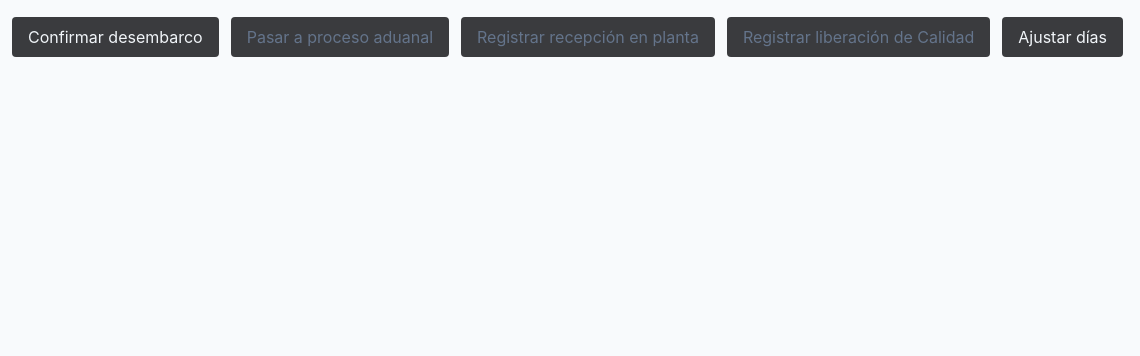
Scenario: cada acción › confirmar desembarco: la fecha va en hora de Costa Rica
Click the button "Confirmar desembarco" at x=115, y=37, box [12,17,219,57]
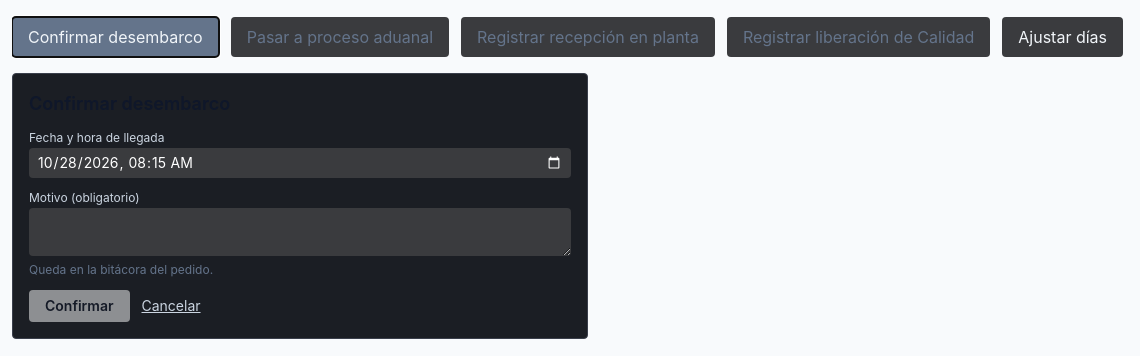
Type "Confirmado con el agente aduanal" into the text box labelled "Motivo (obligatorio) Queda en la bitácora del pedido." at x=300, y=232, box [29,208,571,256]
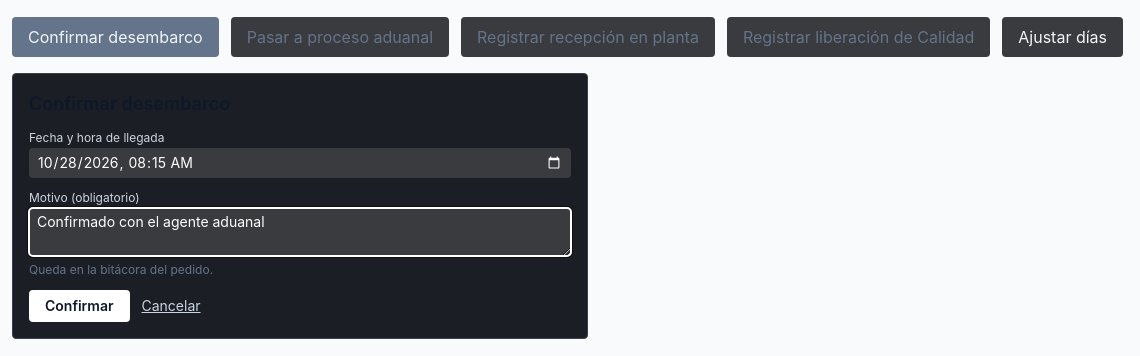
Replace the text in the field labelled "Fecha y hora de llegada" with "2026-10-14T08:15" at x=300, y=163, box [29,148,571,178]
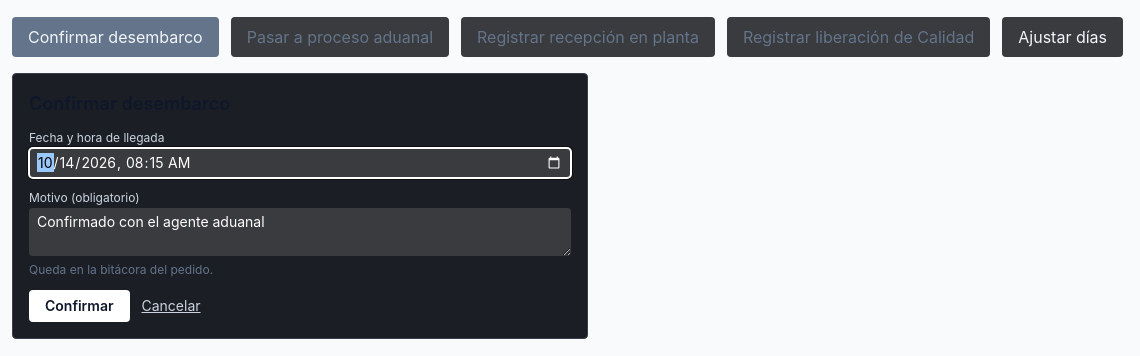
Click the button "Confirmar" at x=79, y=306, box [29,290,130,322]
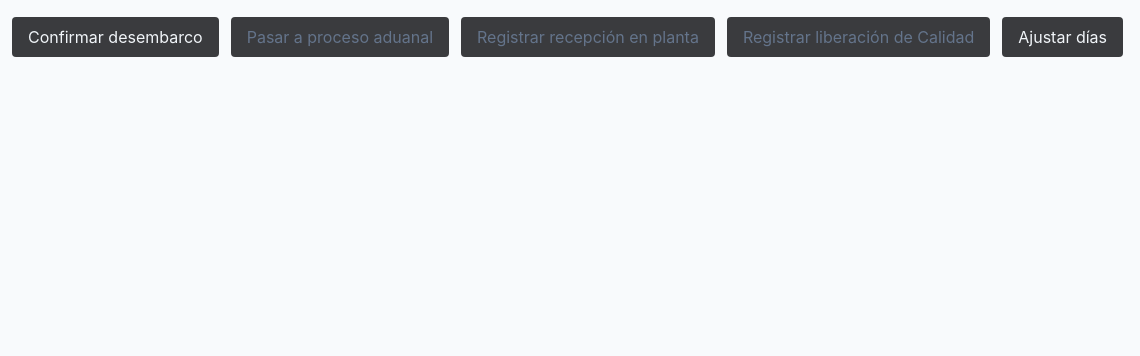
Check: the label labelled "Motivo" is gone
